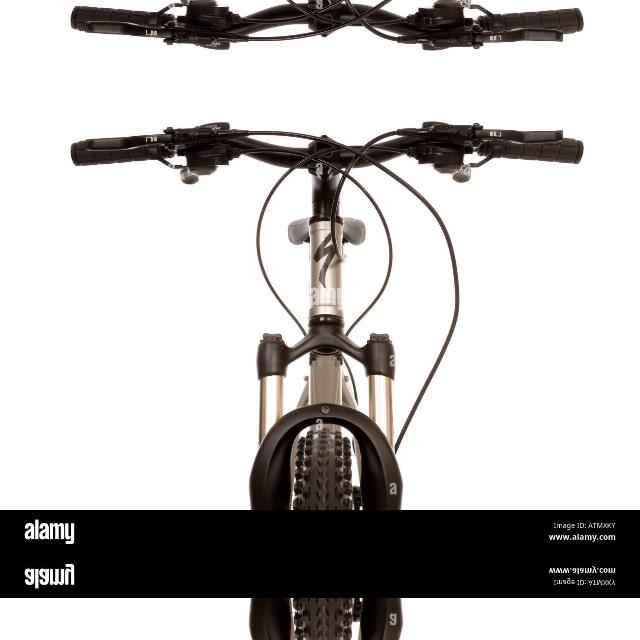obstacle: (62, 100, 598, 520), (62, 0, 598, 70), (62, 587, 598, 640)
